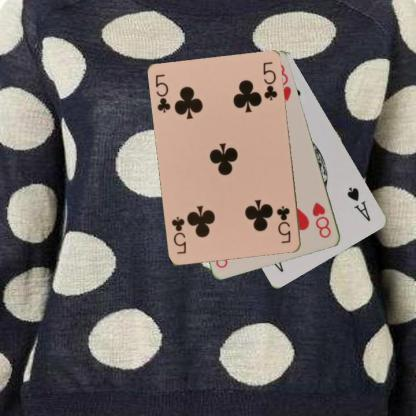5c: (153, 72, 172, 115), (274, 203, 292, 245)
8h: (310, 199, 332, 240)
As: (344, 184, 373, 223)
